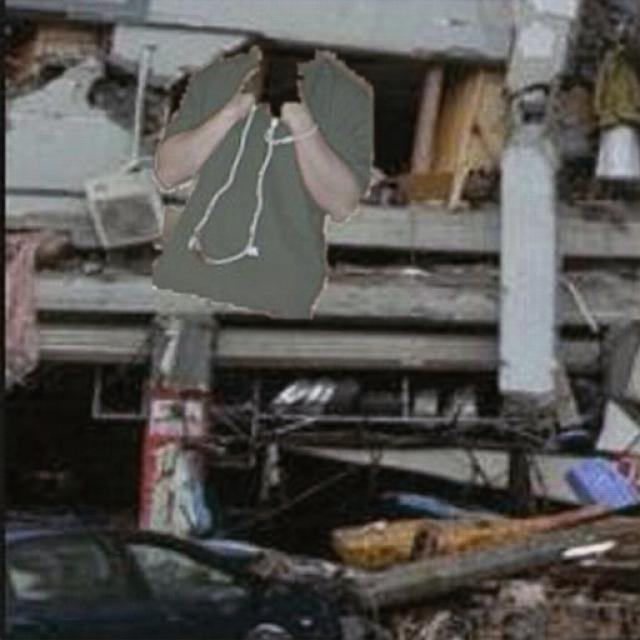Person in Rubble: (152, 46, 372, 318)
